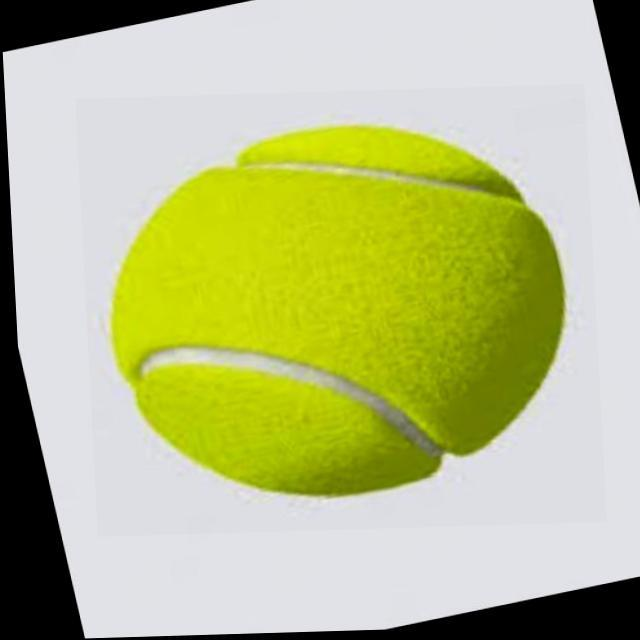-: (74, 88, 601, 538)
